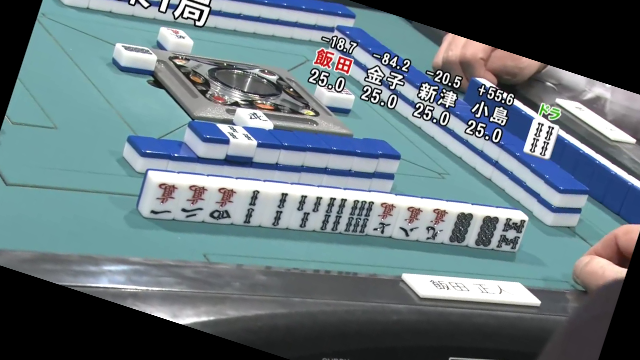Tehai: (132, 158, 527, 260)
